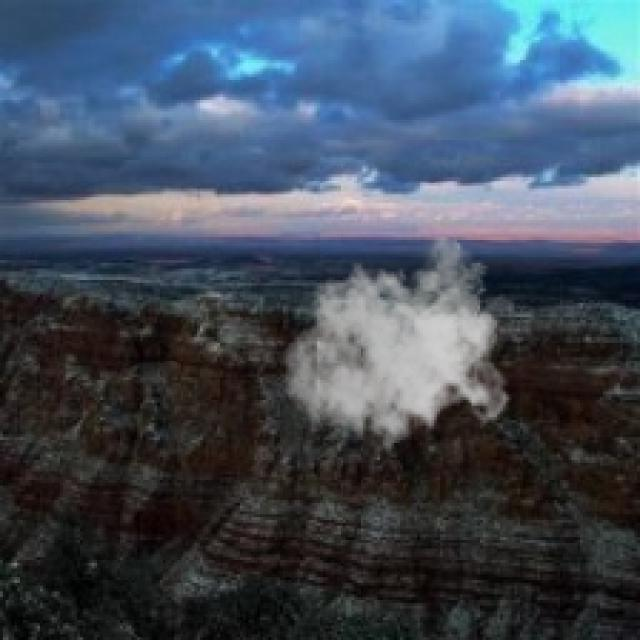Smoke: (282, 237, 514, 463)
